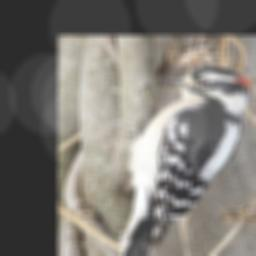Woodpecker: (116, 66, 251, 256)
